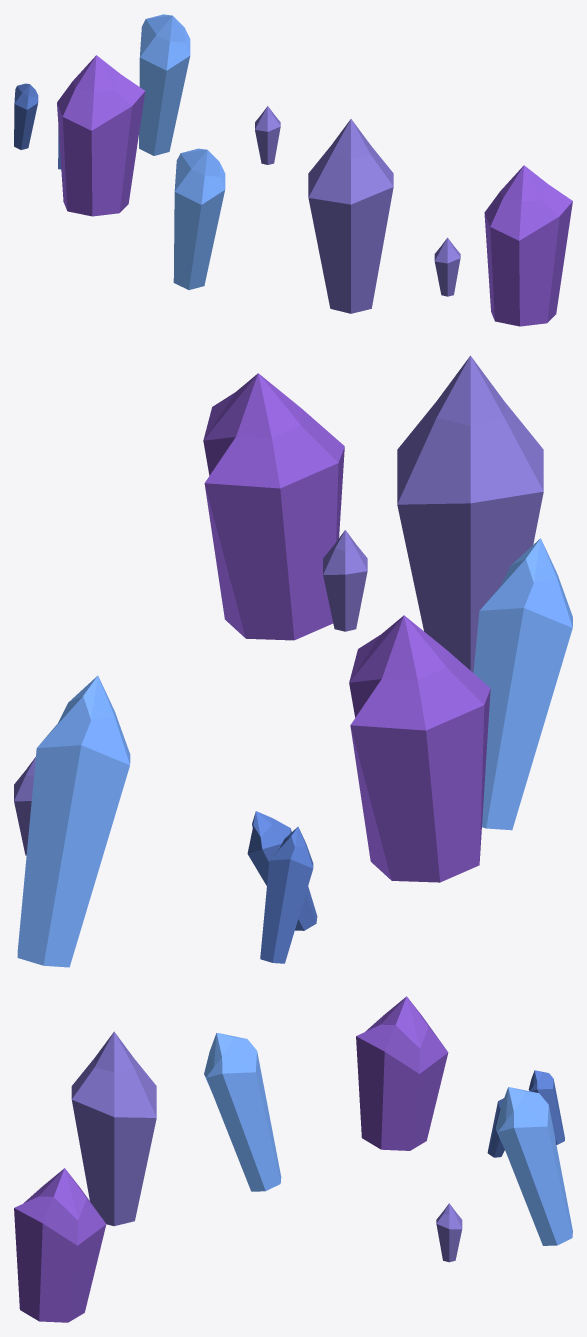
Rendered from crystal_cluster2.fbx.
3 renders of one model, top to bottom at view 1: azimuth 30°, elevation 25°; view 2: azimuth 150°, elevation 25°; view 3: azimuth 270°, elevation 25°, orthographic. The views are drawn at different scales.
Visible parts, largest first — view 1: Cylinder001, Cylinder003.001, Cylinder003, Cylinder002, Cylinder002.001, Cylinder002.002, Cylinder001.002, Cylinder001.001; view 2: Cylinder003.001, Cylinder003, Cylinder001, Cylinder002.001, Cylinder002, Cylinder002.002, Cylinder001.002, Cylinder002.003, Cylinder001.001; view 3: Cylinder001, Cylinder003, Cylinder003.001, Cylinder002, Cylinder002.001, Cylinder001.001, Cylinder002.002, Cylinder002.003.
Boxes of the visible parts, box(x1,y1,x2,y2) form: Cylinder001: box(308, 119, 393, 313); Cylinder003.001: box(57, 55, 145, 216); Cylinder003: box(484, 165, 572, 326); Cylinder002: box(173, 148, 225, 289); Cylinder002.001: box(139, 14, 190, 155); Cylinder002.002: box(14, 83, 38, 149); Cylinder001.002: box(434, 237, 460, 296); Cylinder001.001: box(255, 106, 280, 164); Cylinder003.001: box(349, 615, 490, 882); Cylinder003: box(203, 373, 344, 640); Cylinder001: box(397, 355, 543, 672); Cylinder002.001: box(17, 675, 130, 967); Cylinder002: box(473, 538, 572, 830); Cylinder002.002: box(260, 826, 313, 963); Cylinder001.002: box(323, 530, 367, 631); Cylinder002.003: box(247, 811, 317, 930); Cylinder001.001: box(14, 757, 35, 855); Cylinder001: box(71, 1031, 156, 1226); Cylinder003: box(14, 1168, 106, 1322); Cylinder003.001: box(356, 996, 448, 1150); Cylinder002: box(204, 1033, 281, 1191); Cylinder002.001: box(495, 1087, 572, 1245); Cylinder001.001: box(436, 1203, 462, 1262); Cylinder002.002: box(528, 1070, 564, 1144); Cylinder002.003: box(487, 1098, 504, 1157).
Bounding box in the file's own units: 36.59 × 22.08 × 53.11.
